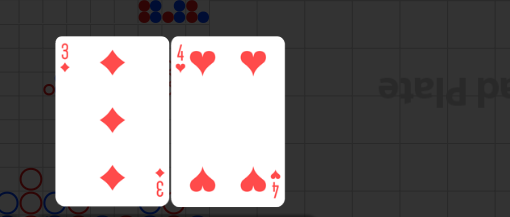4H: (269, 168, 282, 199)
6D: (59, 42, 71, 74)
